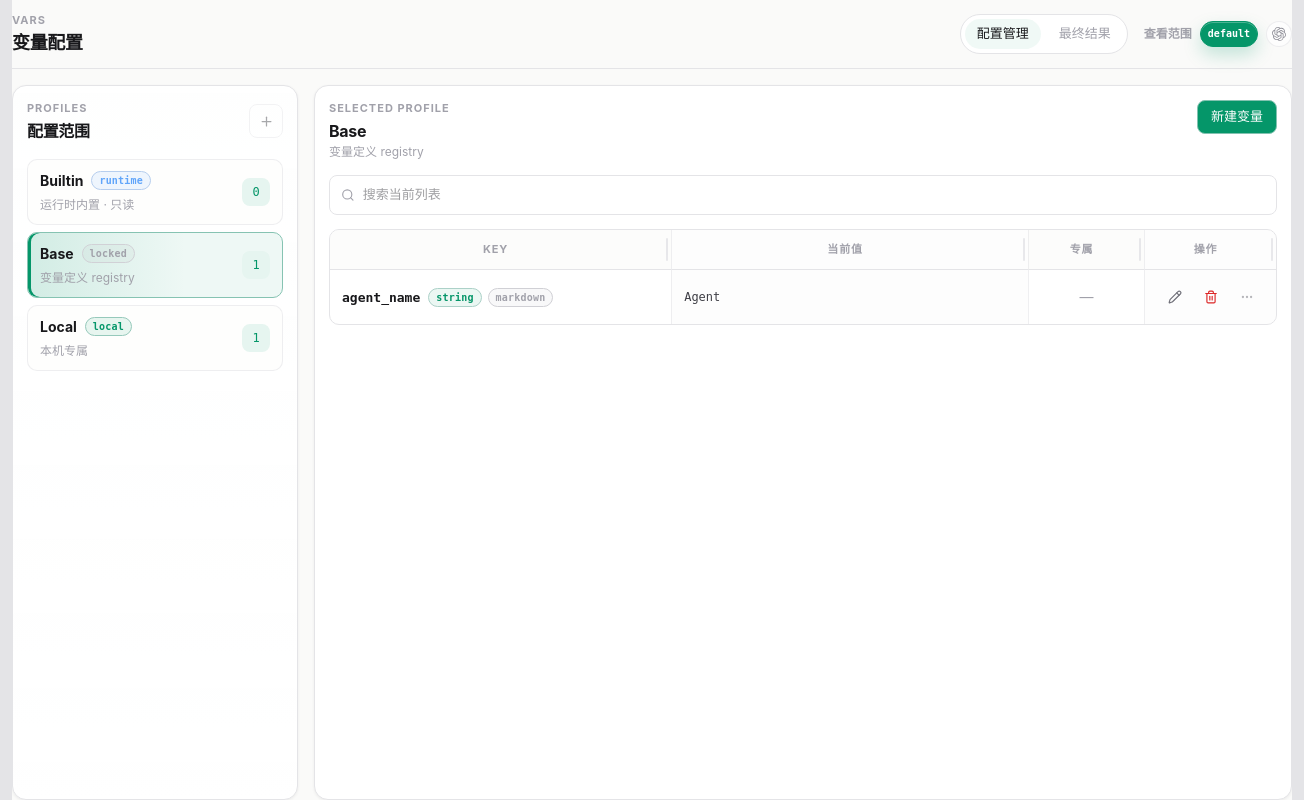
it: Vars view › shows final resolved values for the selected agent
Expected: the text "agent_name" is shown, [342,290,420,304]
Click the button named "Codex".
click(1279, 34)  # box [1266,21,1292,47]
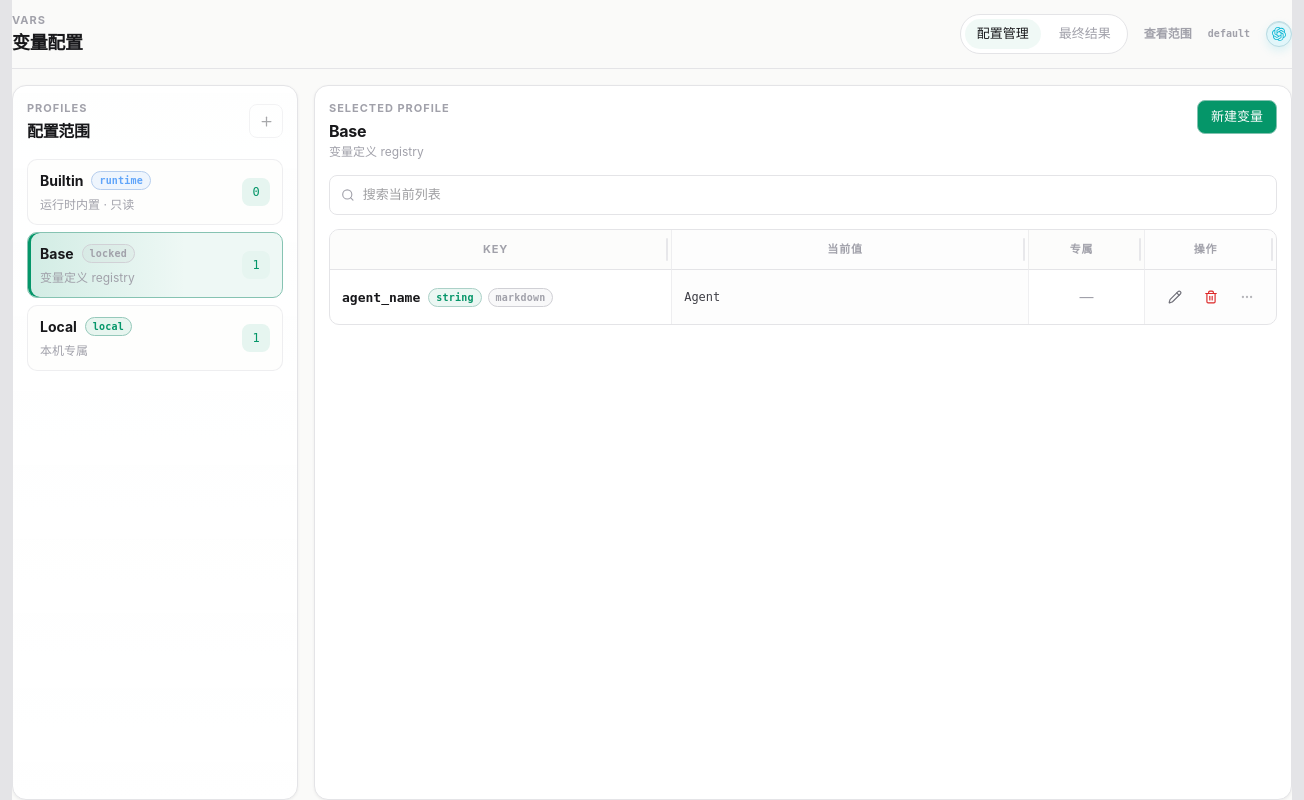
Click the button "最终结果".
click(1085, 34)  # box [1047,19,1123,49]
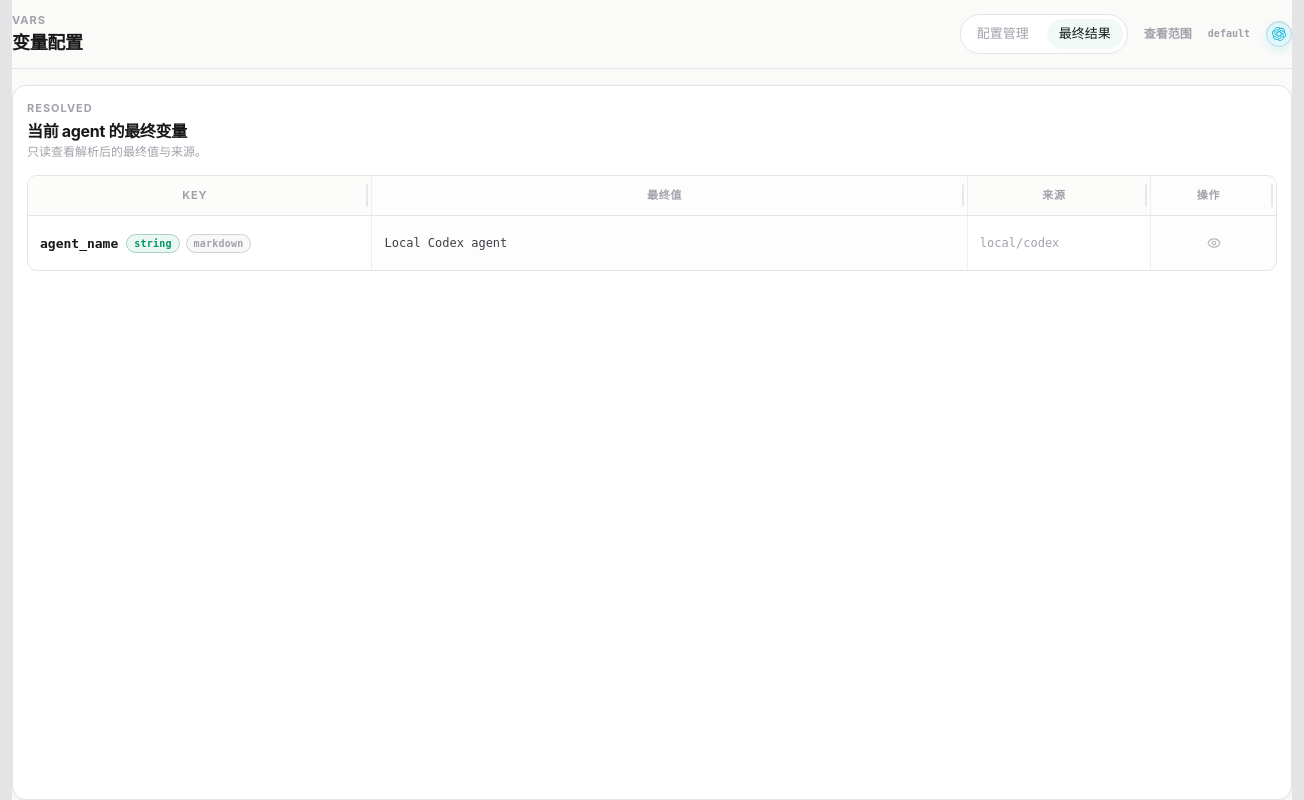
Expected: the heading "当前 agent 的最终变量" is shown, [27,119,207,143]
Expected: the row "agent_name string markdown Local Codex agent local/codex" is shown, [28,216,1276,270]
Expected: the button named "agent_name 详情稍后接入" is disabled, [1200,229,1228,257]
